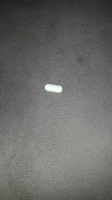Aferin: (43, 83, 63, 94)
